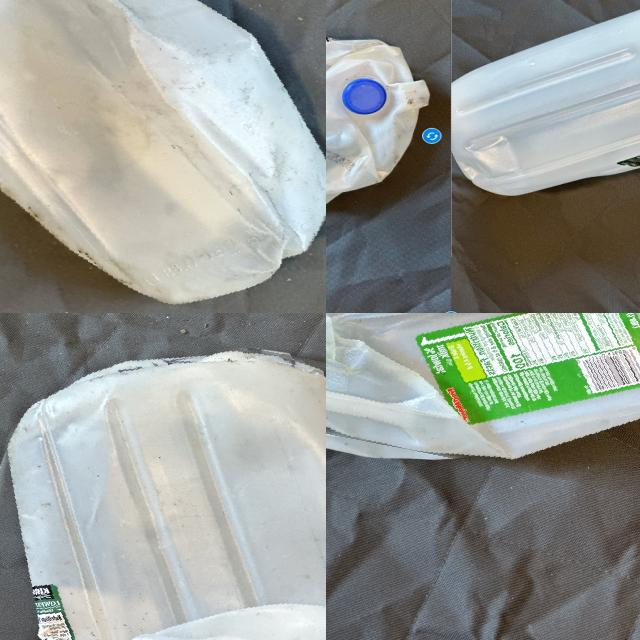milk-jug: (0, 325, 326, 640), (0, 0, 326, 310), (326, 313, 640, 483), (455, 1, 640, 193), (326, 31, 423, 217)
